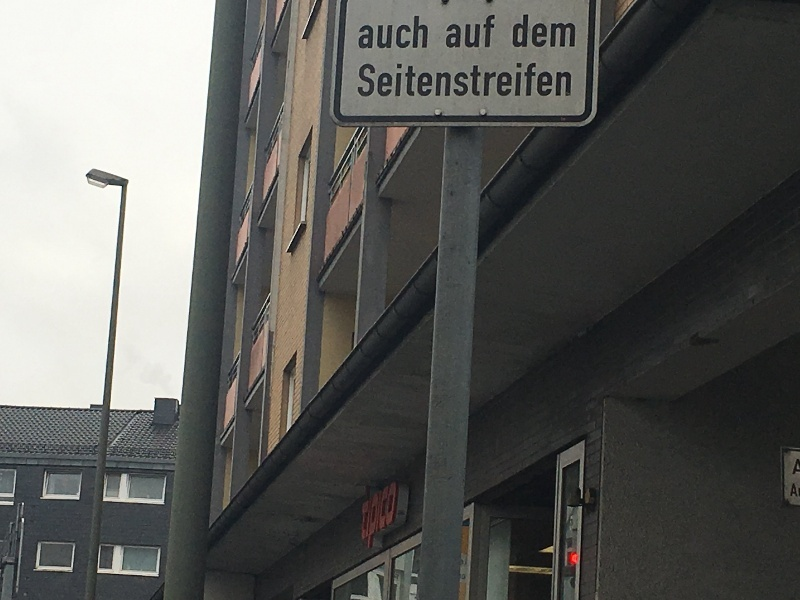text: (369, 481, 384, 554), (385, 481, 397, 554), (369, 63, 384, 98), (385, 63, 400, 98), (401, 63, 416, 98), (417, 63, 432, 98), (433, 63, 448, 98), (449, 63, 464, 98), (465, 63, 480, 98), (481, 63, 496, 98), (497, 63, 512, 98), (513, 63, 528, 98), (529, 63, 544, 98), (545, 63, 560, 98), (529, 13, 544, 48), (545, 13, 560, 48), (561, 13, 576, 48), (449, 14, 464, 48), (465, 14, 480, 48), (369, 16, 384, 49), (385, 16, 400, 49), (401, 16, 416, 49), (481, 14, 495, 48), (515, 13, 528, 48), (362, 481, 368, 554), (561, 63, 573, 98), (417, 16, 429, 49), (359, 63, 368, 98), (361, 16, 368, 49), (793, 484, 800, 498), (797, 459, 800, 476), (447, 14, 448, 48)
